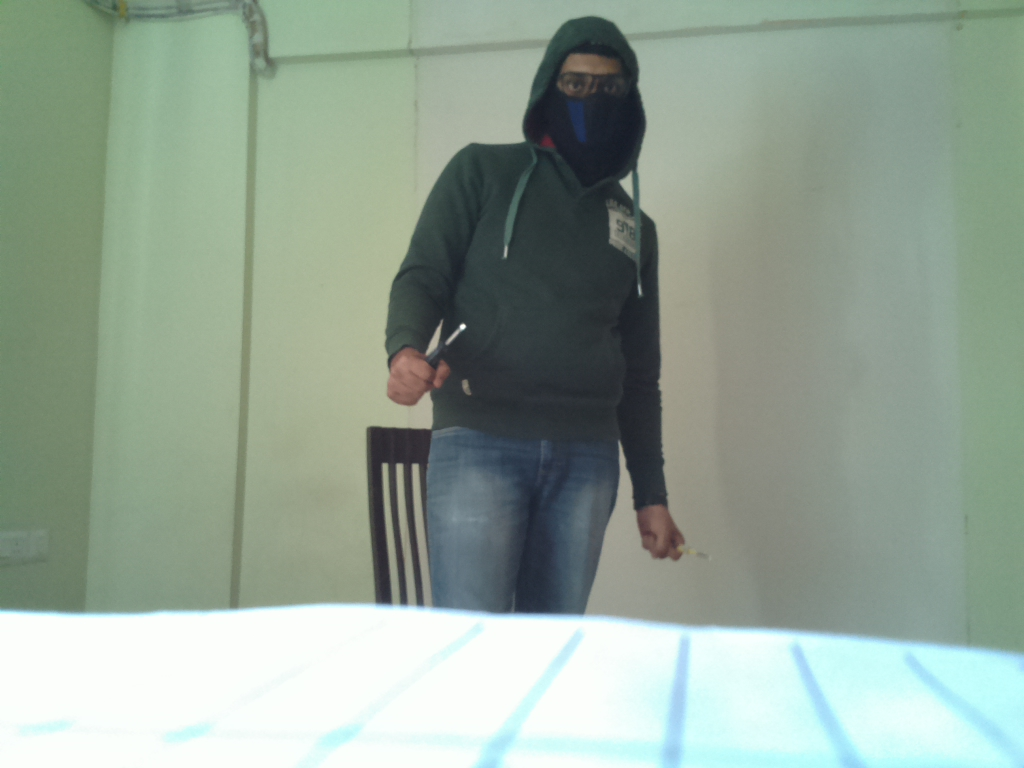none3: (418, 323, 472, 373), (656, 542, 718, 569)
